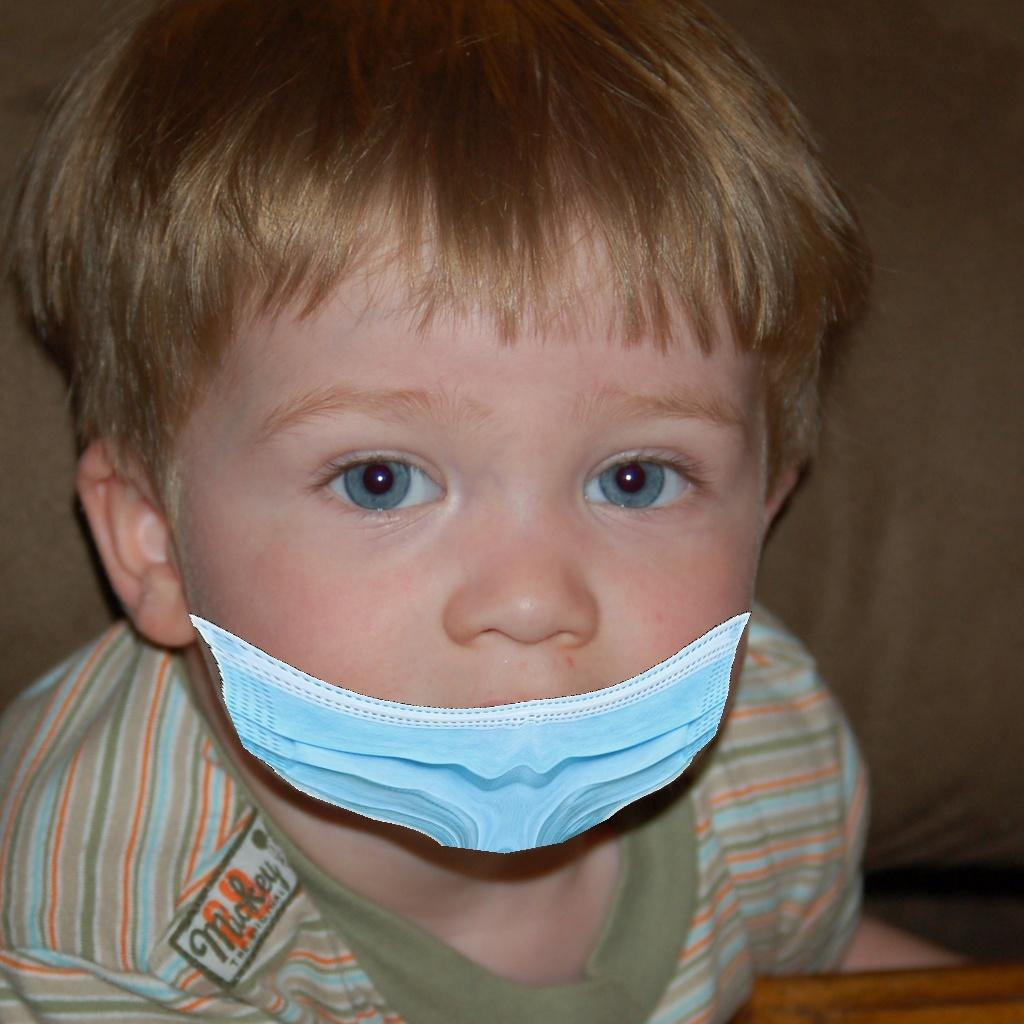Máscara Incorreta: (150, 281, 768, 836)
